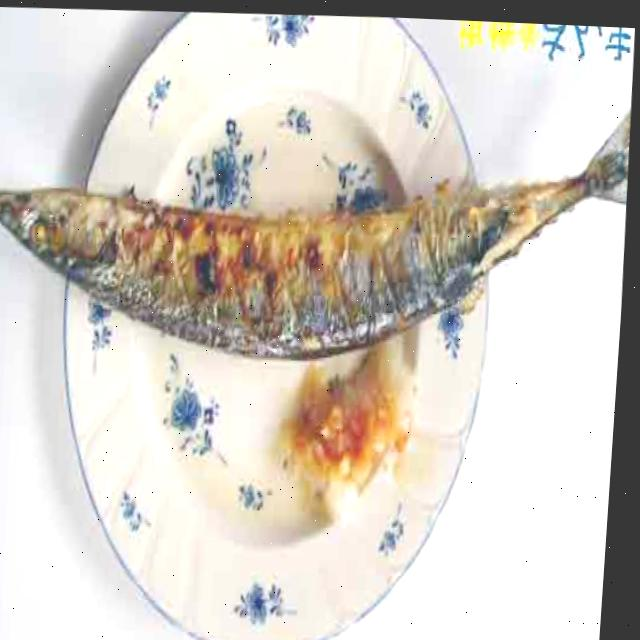熟制海鲜: (0, 44, 638, 393)
